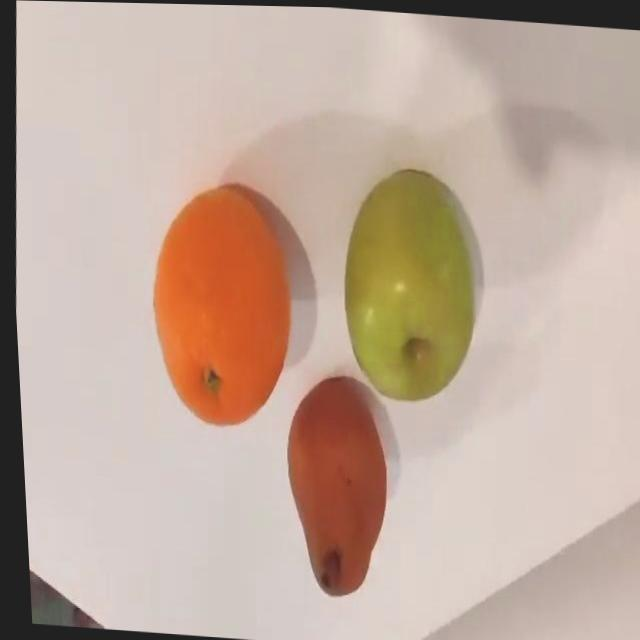Apple: (330, 163, 487, 407), (270, 372, 393, 602)
Orange: (138, 179, 300, 432)
